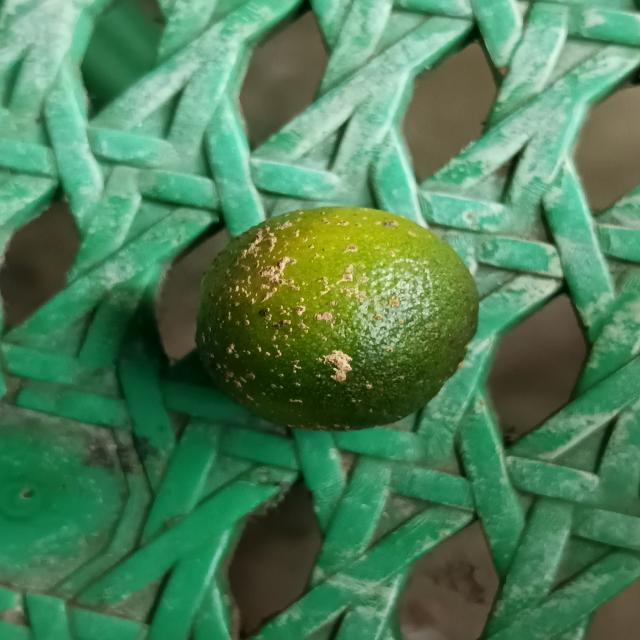scab: (187, 207, 479, 435)
